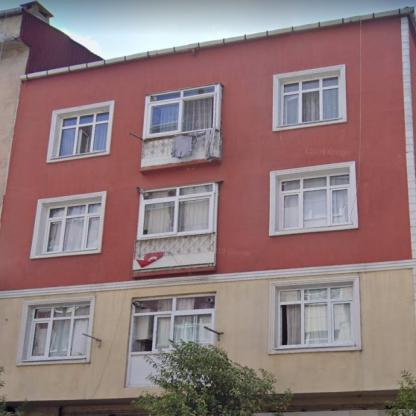window: (281, 281, 353, 344), (131, 295, 212, 349), (275, 174, 350, 230), (23, 300, 91, 356), (138, 183, 211, 235), (148, 86, 214, 137), (44, 202, 101, 252), (281, 77, 339, 122), (56, 110, 109, 158)
